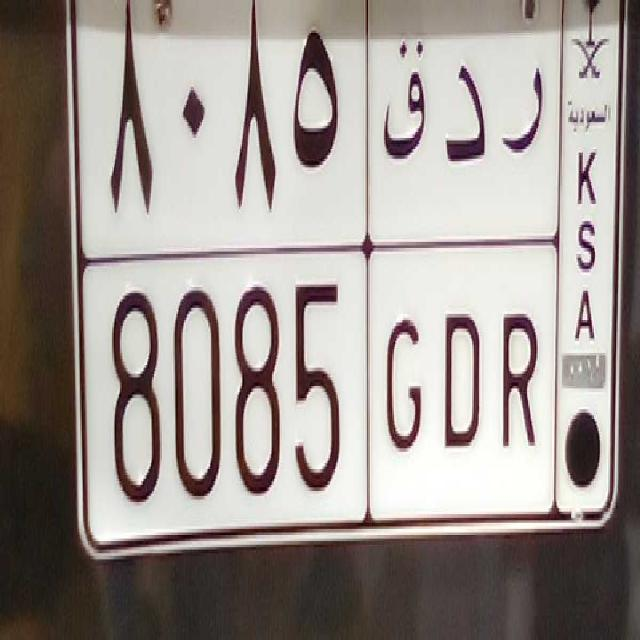license_plate: (97, 257, 554, 517)
